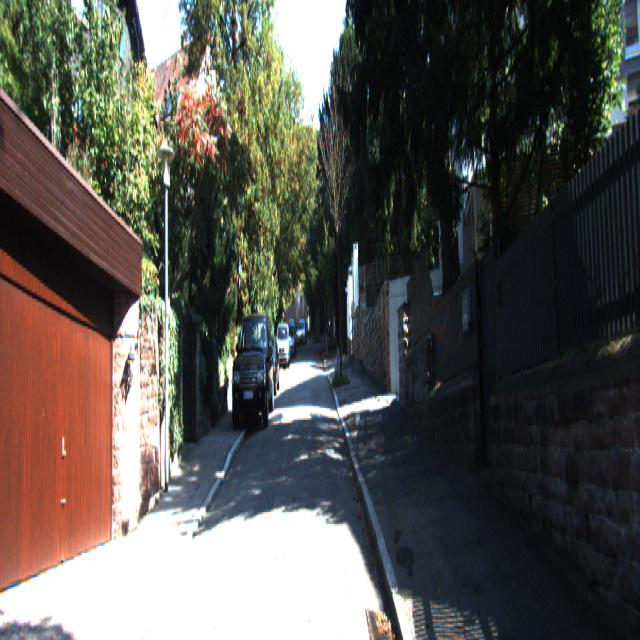Car: (230, 307, 274, 435), (274, 322, 290, 371)
